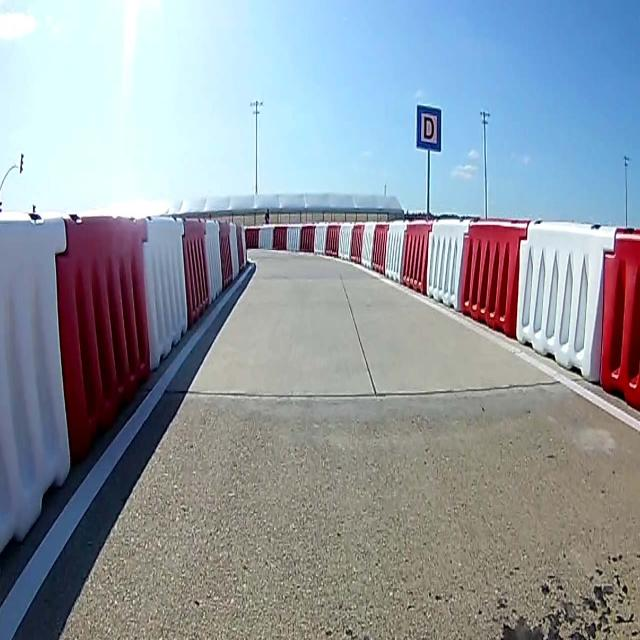durak: (416, 104, 442, 152)
